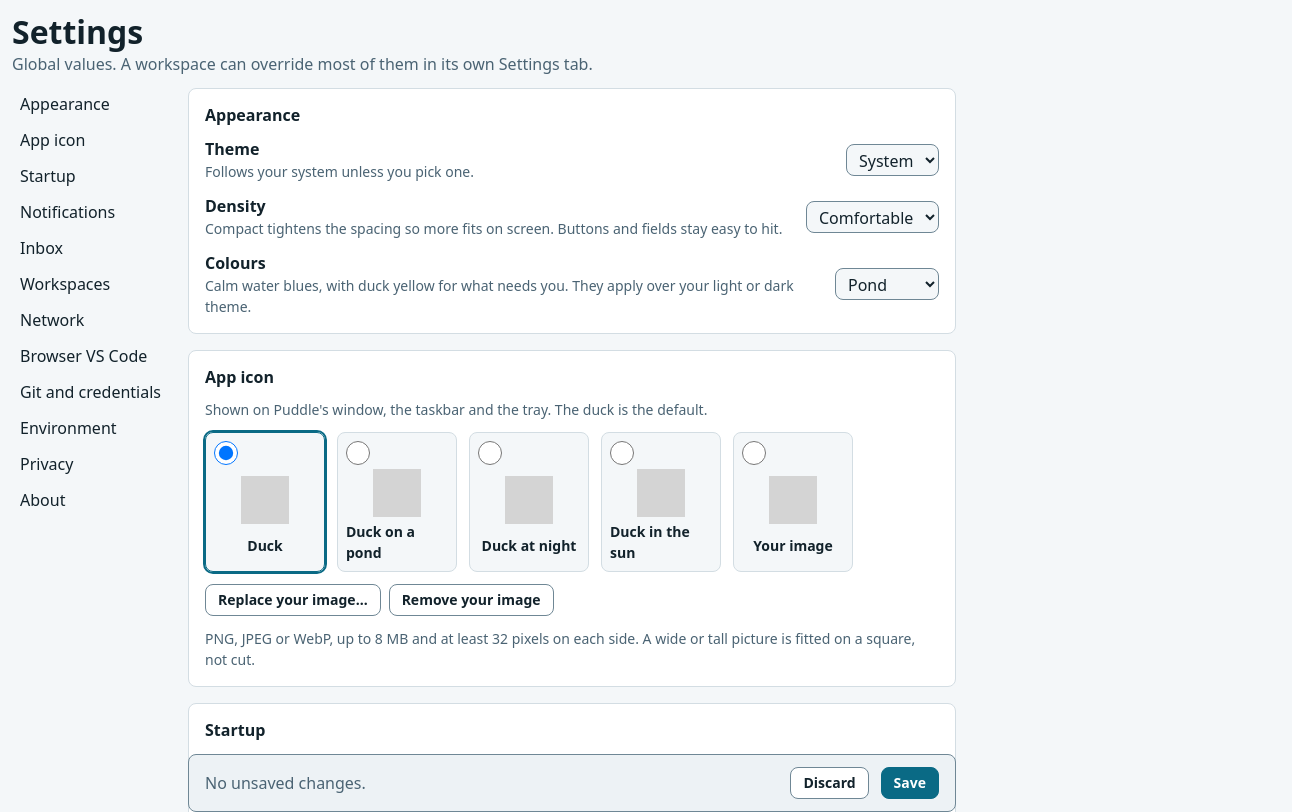
the App icon section › removes your image once nothing saved uses it, and goes back to the saved icon
This screenshot has width=1292, height=812.
Expected: the heading "App icon" is shown, [205,366,274,388]
Expected: the radio button labelled "Duck on a pond" is shown, [346,441,370,465]
What coordinates should you click on to do the following:
click the radio button labelled "Your image"
I would click on:
 (754, 453)
Its box is [742,441,766,465].
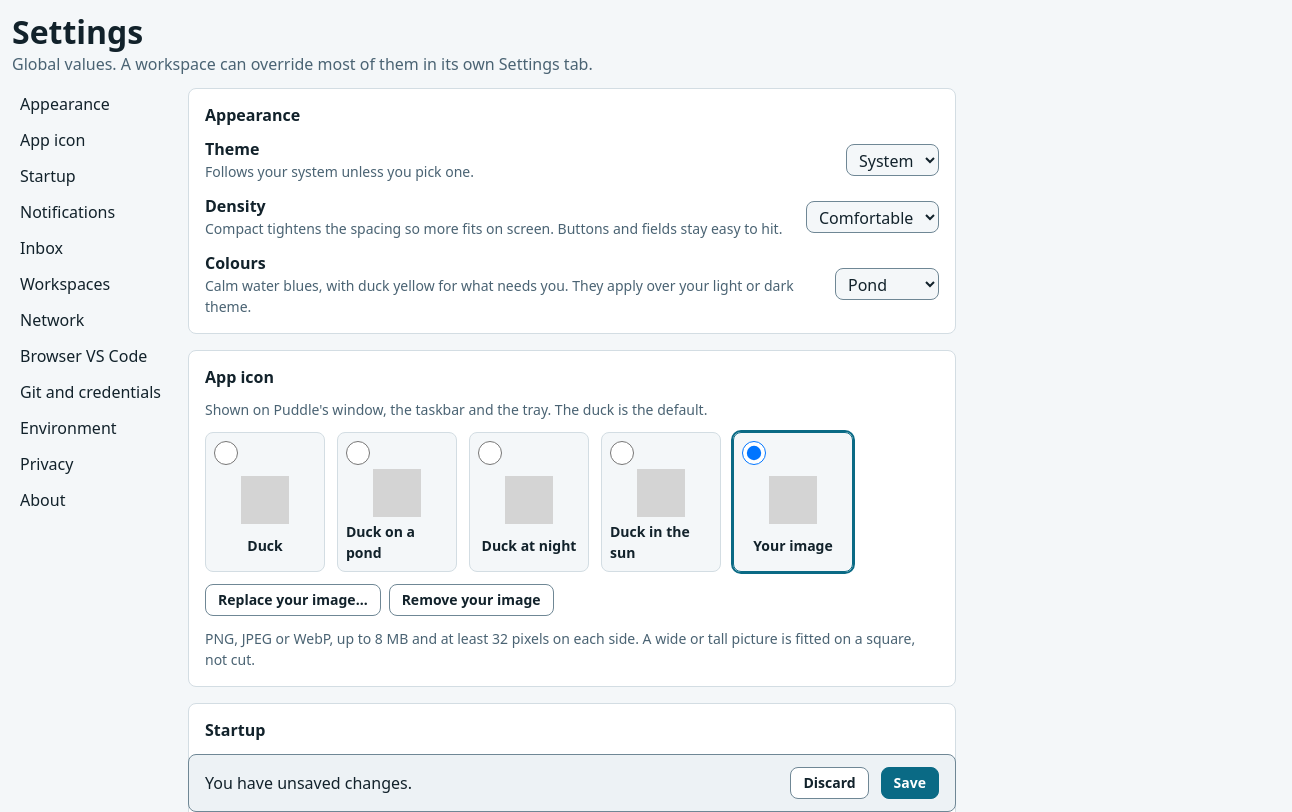
What coordinates should you click on to do the following:
click the button "Remove your image"
I would click on:
 (471, 600)
Its box is [389,584,554,616].
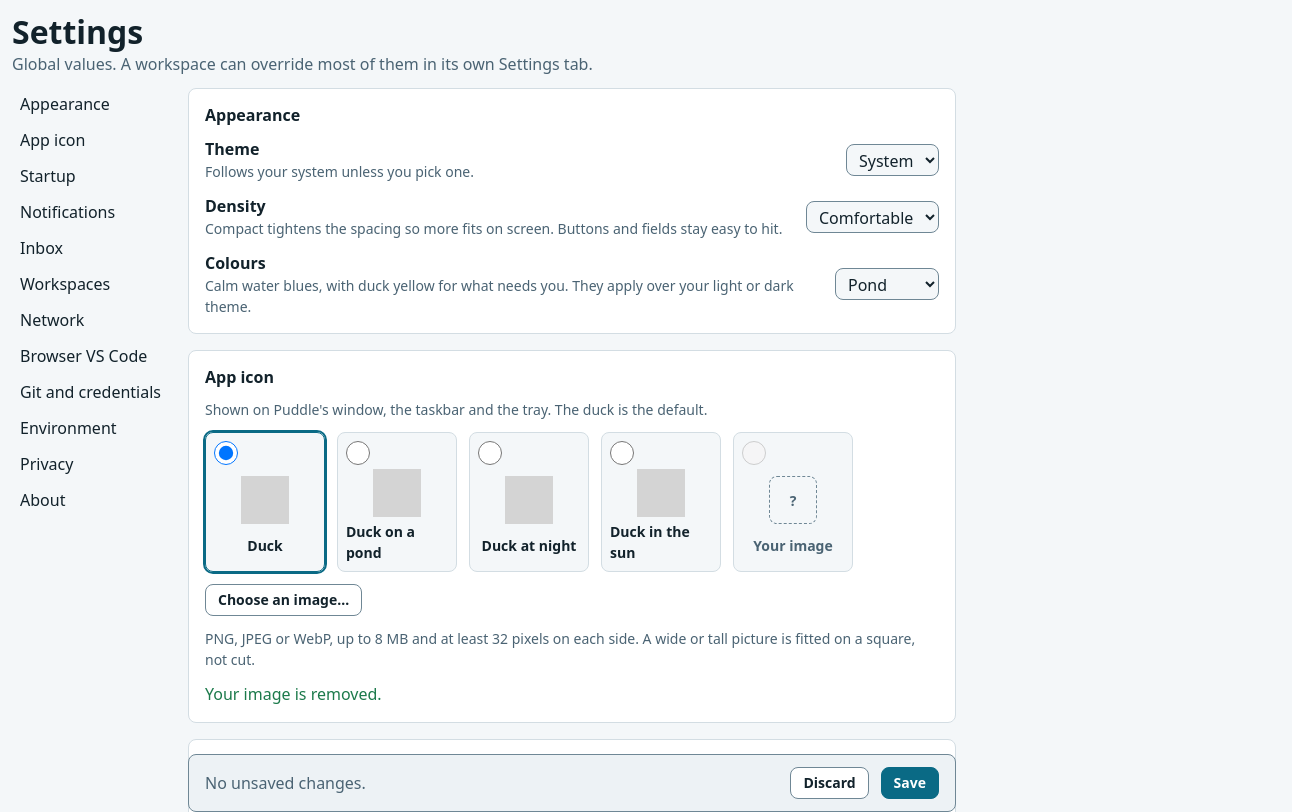
Expected: the text "Your image is removed." is shown, [205,683,382,705]
Expected: the radio button labelled "Duck" is checked, [214,441,238,465]
Expected: the radio button labelled "Your image" is disabled, [742,441,766,465]
